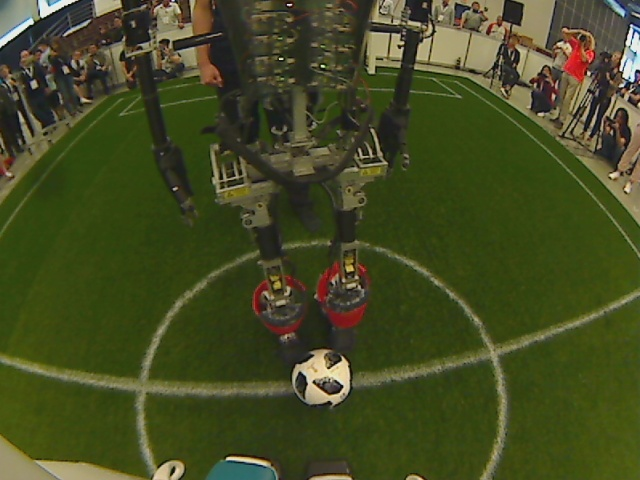ball: (287, 351, 357, 408)
goalpost: (366, 58, 384, 79)
robot: (246, 288, 380, 358)
